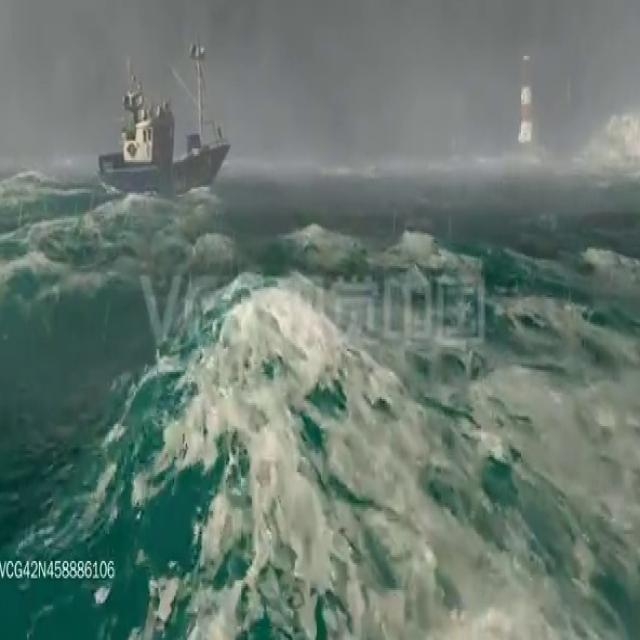fishing boat: (103, 37, 230, 197)
